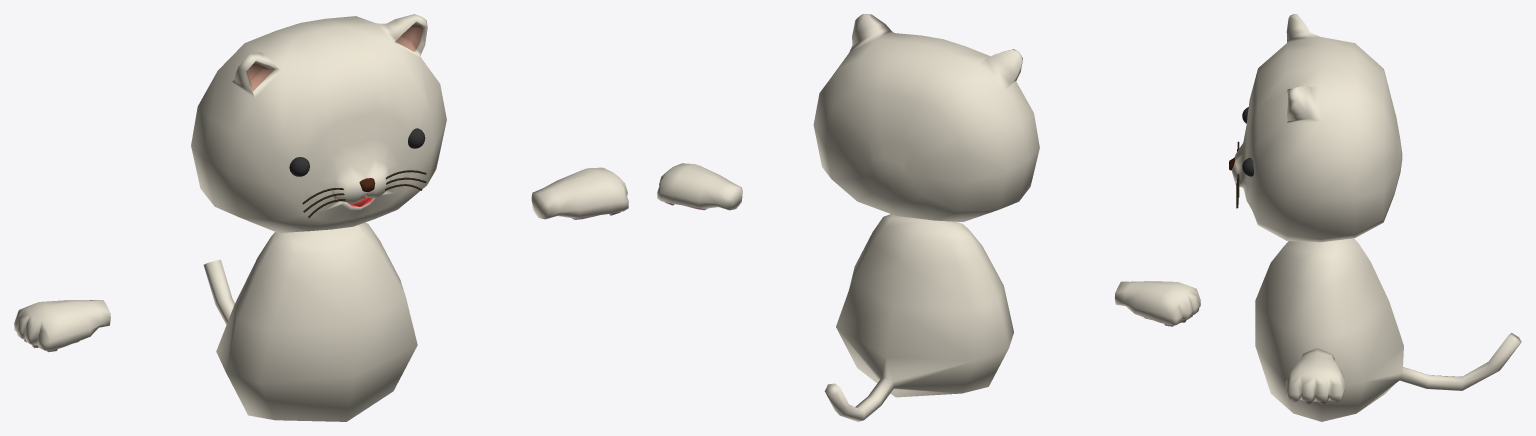
The model's file is NekoPunchForThree.gltf.
3 views of the same model, side by side, from view 1: azimuth 30°, elevation 25°; view 2: azimuth 150°, elevation 25°; view 3: azimuth 270°, elevation 25° (orthographic). The views are drawn at different scales.
Parts seen in each view (by area): view 1: body; view 2: body; view 3: body.
Part boxes in pixels (x1,y1,x2,y2): body: (14, 14, 628, 421); body: (657, 14, 1200, 421); body: (1229, 14, 1521, 421).
Bounding box in the file's own units: 2.12 × 1.31 × 0.9859.
